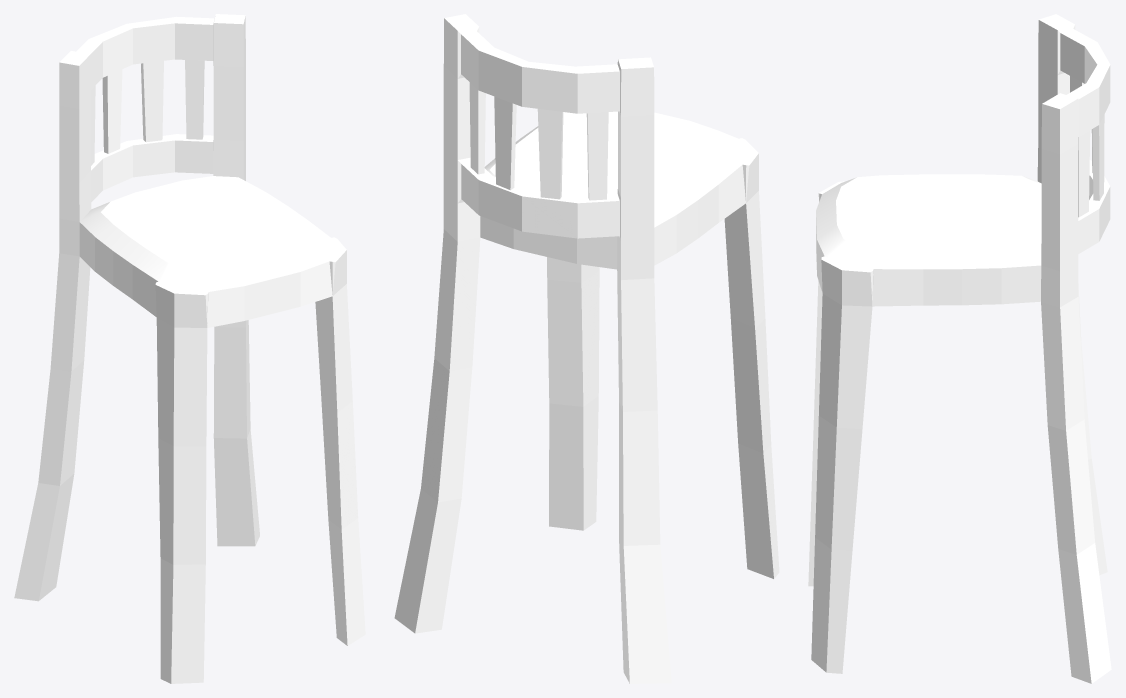
Rendered from 8a6e92f7-2200-4abb-b18b-cc2e1ccc02ea.glb.
3 views of the same model, side by side, from view 1: azimuth 30°, elevation 25°; view 2: azimuth 150°, elevation 25°; view 3: azimuth 270°, elevation 25° (orthographic). The views are drawn at different scales.
Visible parts, largest first — view 1: BarChair.016; view 2: BarChair.016; view 3: BarChair.016.
Part boxes in pixels (x1,y1,x2,y2): BarChair.016: (14,14,365,683); BarChair.016: (394,14,779,683); BarChair.016: (808,14,1111,683).
Size of what is drawn, in the model's own units: 0.5565 by 1.15 by 0.5668.
Materials: 1 (1 with a texture image).
